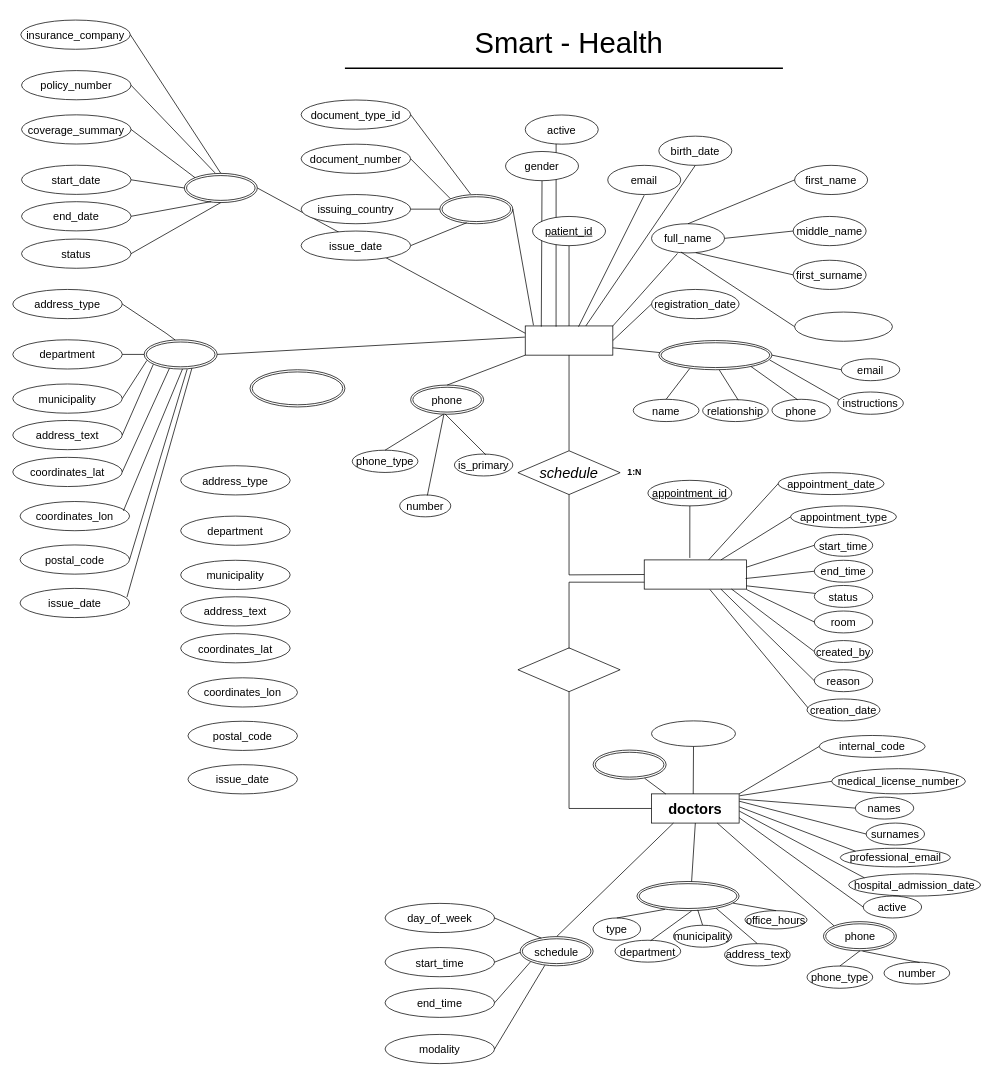
This 994x1076 diagram has some shape labels left out. Each missing label, with the box of its shape:
address: (143, 339, 217, 369)
appointments: (643, 559, 746, 589)
attends: (517, 647, 620, 692)
doctor_id: (651, 720, 735, 746)
document: (439, 194, 513, 224)
emergency_contact: (658, 340, 772, 370)
medical_records: (249, 369, 345, 407)
patients: (525, 325, 613, 355)
policy: (184, 173, 257, 203)
practice_address: (636, 881, 739, 911)
second_surname: (794, 311, 892, 341)
speciality: (592, 749, 666, 779)
